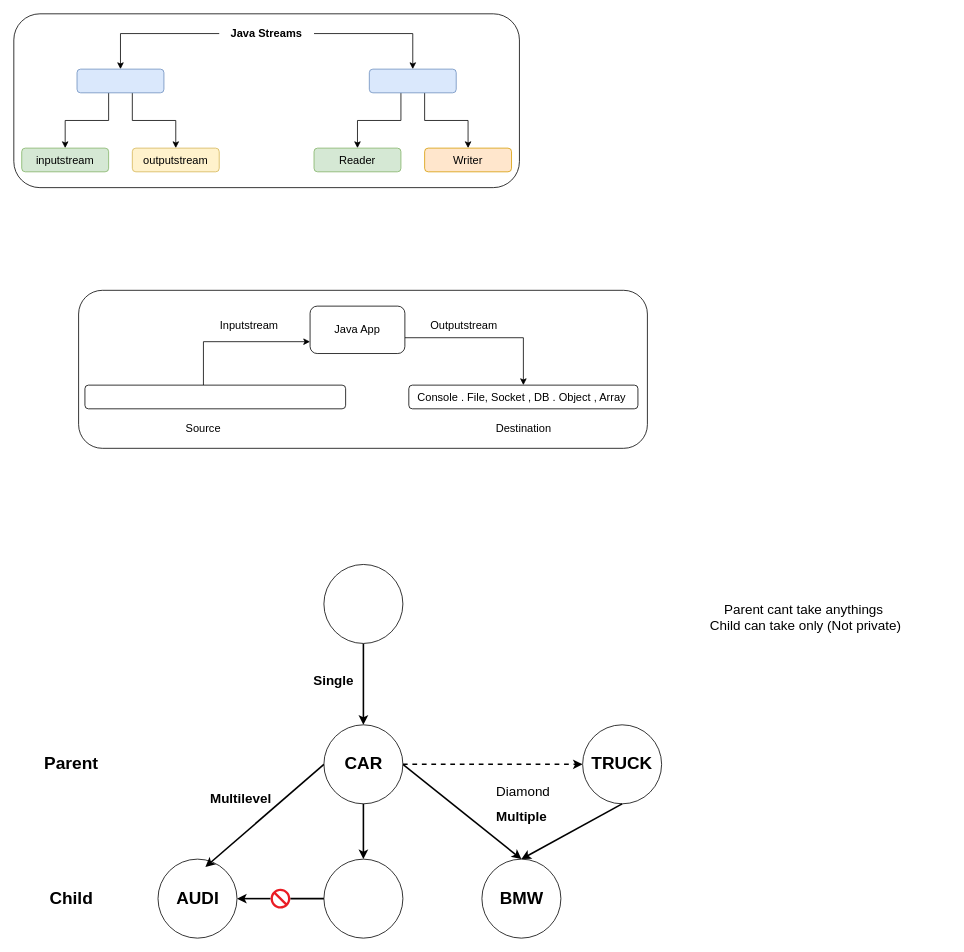
Some shapes in this 964 by 952 pixel diagram are drawn without their labels. Each missing label, with the centre of its shape:
Byte Stream: [120,80]
Char Stream: [412,80]
HONDA: [363,898]
Keyboard , mouse ,file ,socket ,DB, Array , Object: [215,396]
VEHICAL: [363,603]
